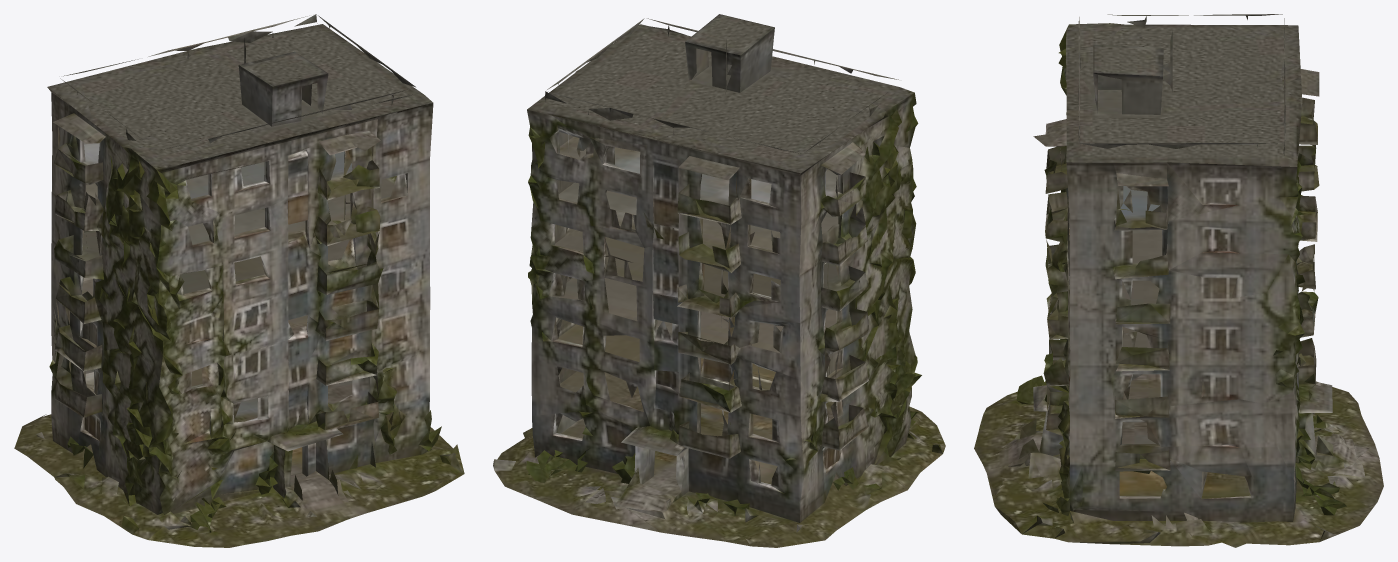
The model's file is ruin_overgrown.glb.
3 renders of one model, left to right at view 1: azimuth 30°, elevation 25°; view 2: azimuth 150°, elevation 25°; view 3: azimuth 270°, elevation 25°, orthographic. The views are drawn at different scales.
Visible parts, largest first — view 1: ruin_overgrown; view 2: ruin_overgrown; view 3: ruin_overgrown.
Boxes of the visible parts, x1,y1,x2,y2 form: ruin_overgrown: [14, 14, 464, 547]; ruin_overgrown: [493, 14, 945, 547]; ruin_overgrown: [974, 14, 1383, 547].
Size of the model in its own units: 1.56 by 1.79 by 1.55.
1 material, 1 textured.
